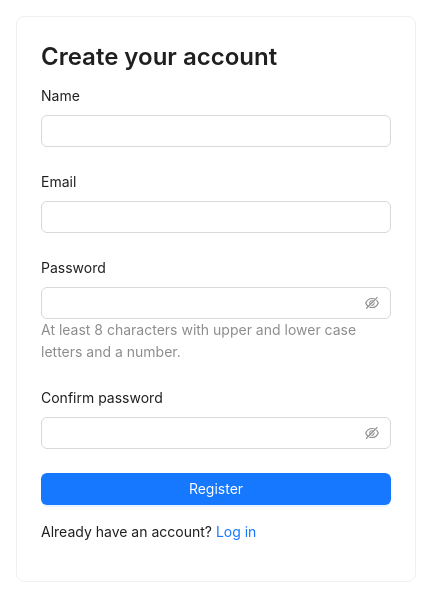
Test: RegisterPage › shows validation messages and does not submit an empty form
Step 1. Click the button "Register" → (216, 489), box [41,473,391,505]
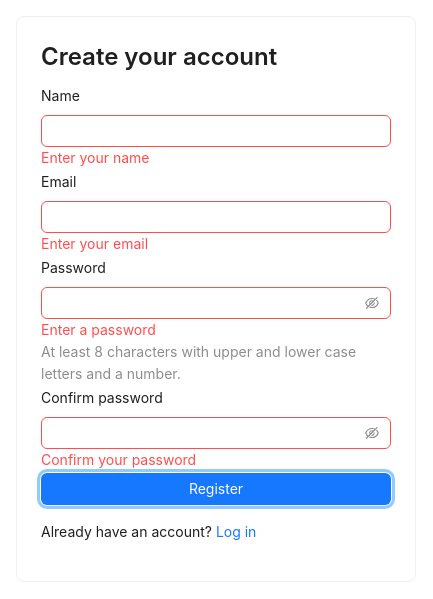
Check: the text "Enter your name" is shown, box [41,149,150,166]
Check: the text "Enter your email" is shown, box [41,235,148,252]
Check: the text "Enter a password" is shown, box [41,321,156,338]
